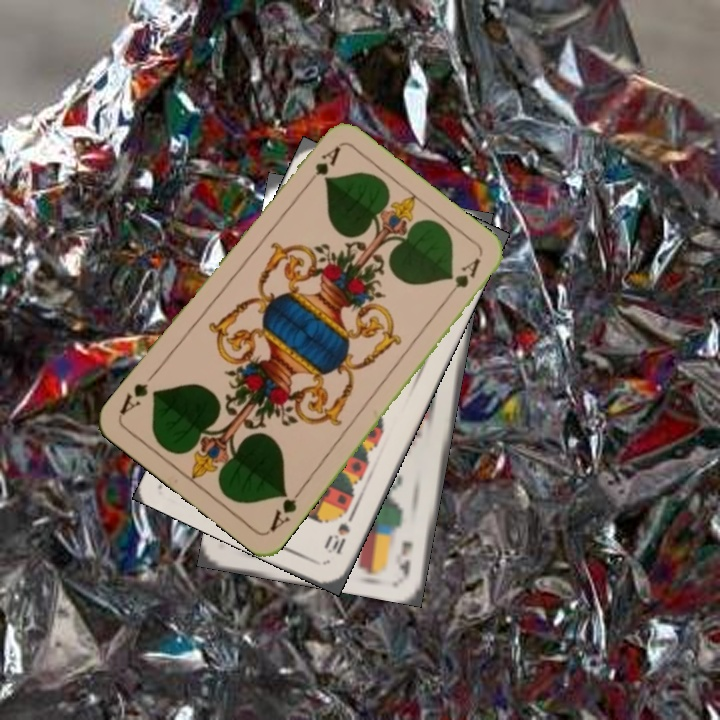EK: (394, 536, 416, 578)
GA: (299, 143, 343, 192), (265, 482, 306, 534)
S10: (322, 508, 358, 557)
